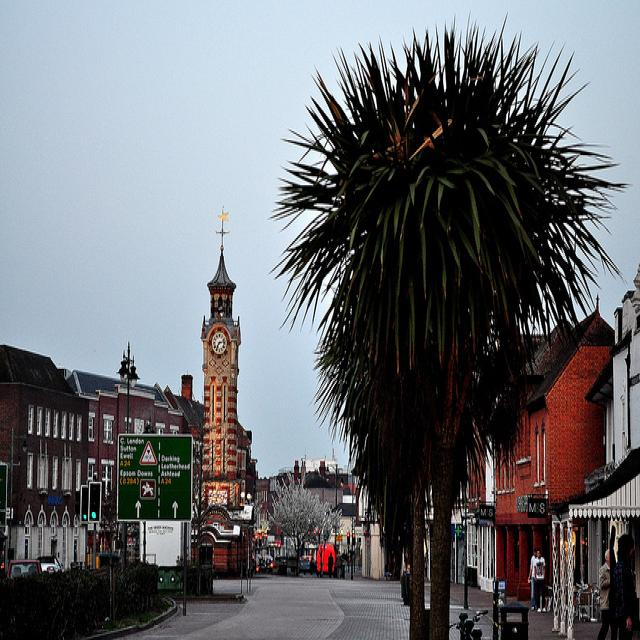motor: (449, 609, 489, 640)
